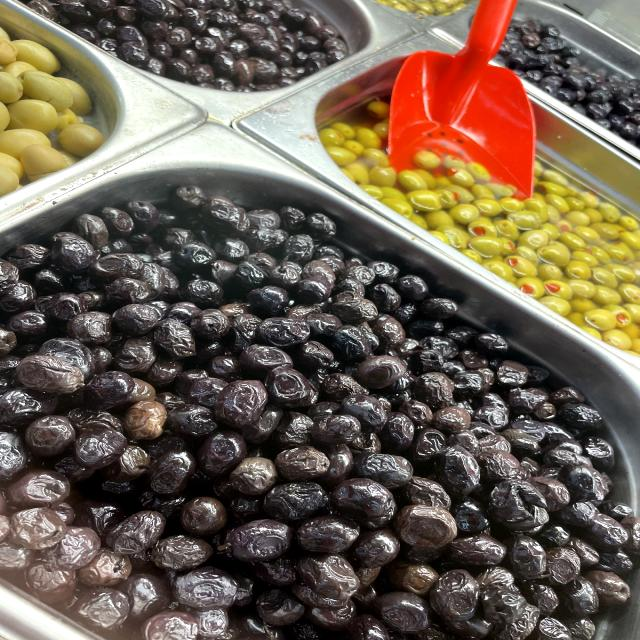olive: (85, 304, 403, 424), (168, 561, 255, 616), (422, 565, 494, 626), (213, 516, 303, 564), (97, 505, 171, 560), (389, 496, 460, 553), (136, 447, 201, 500), (36, 225, 100, 275)
